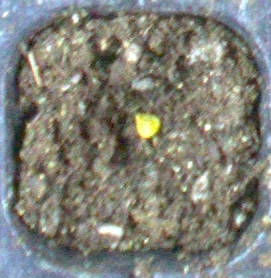chilli seed: (133, 112, 161, 138)
